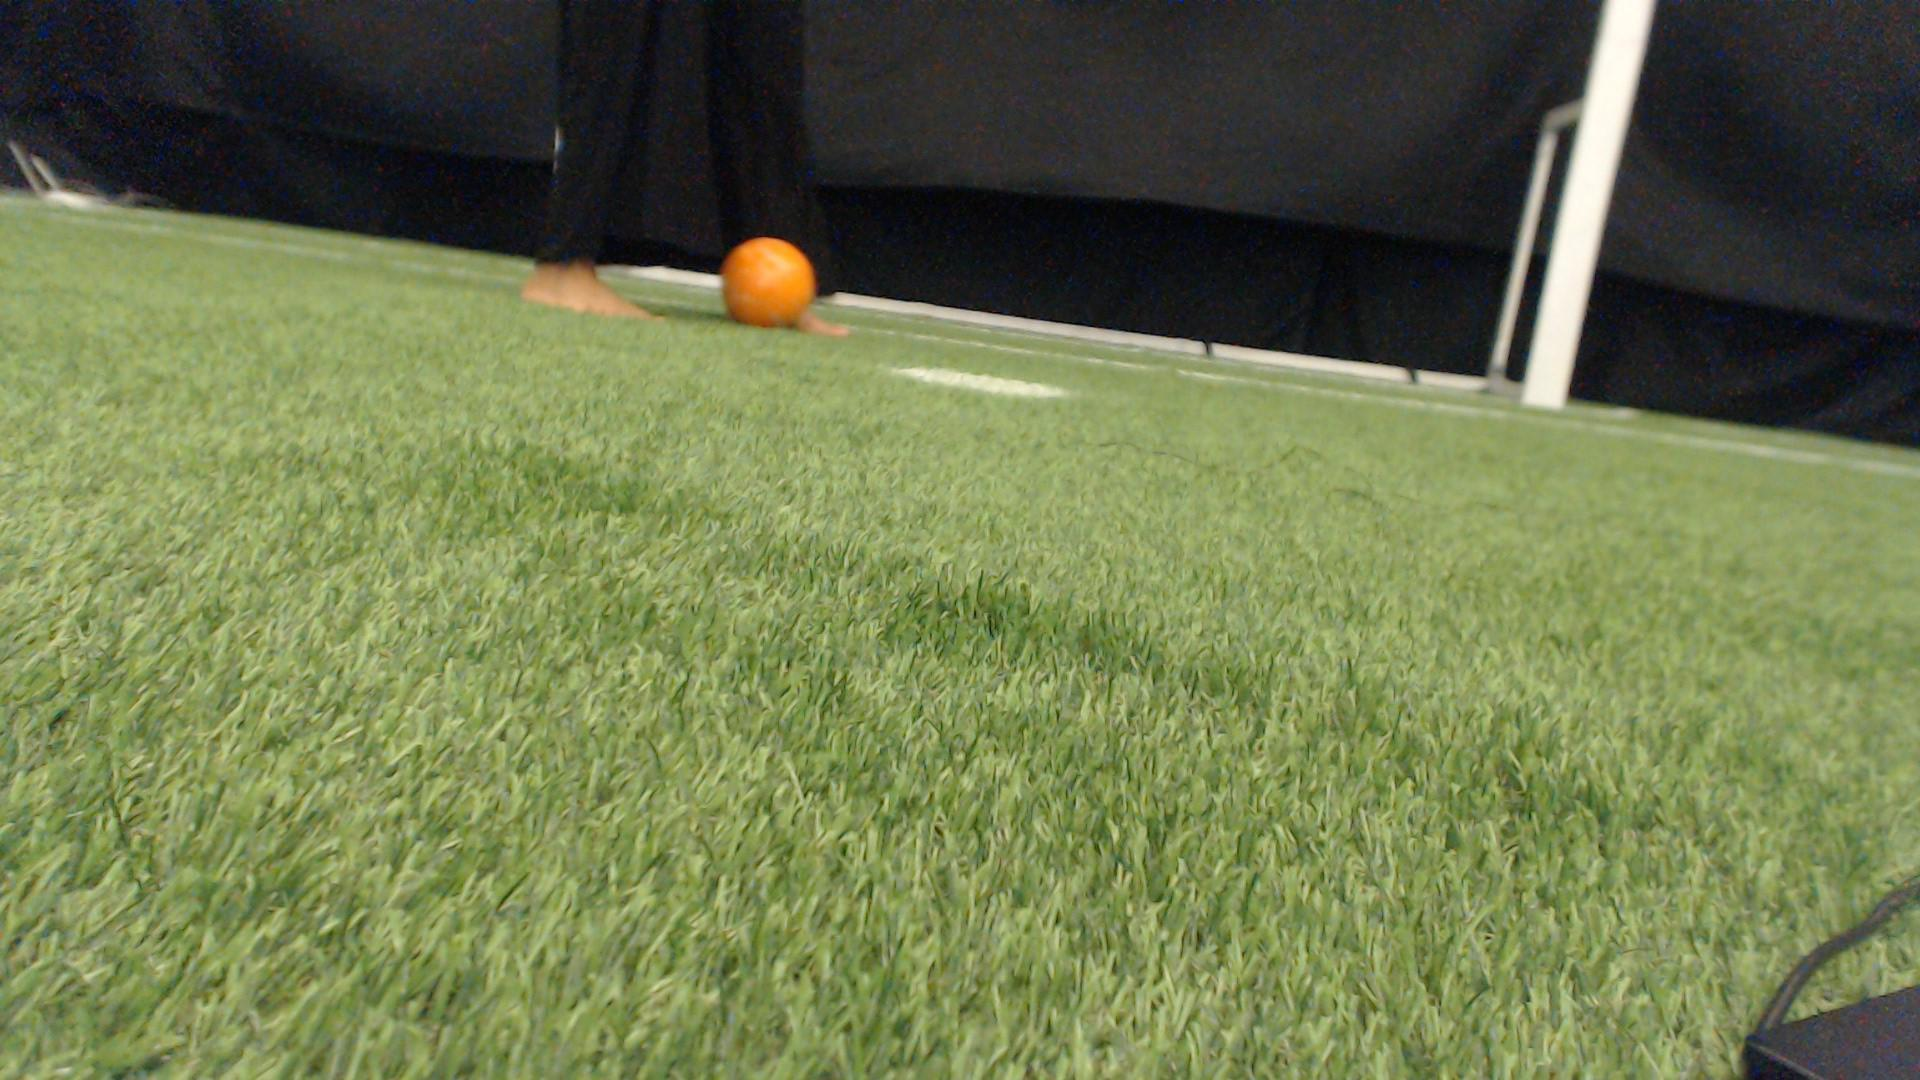bola: (715, 239, 832, 324)
